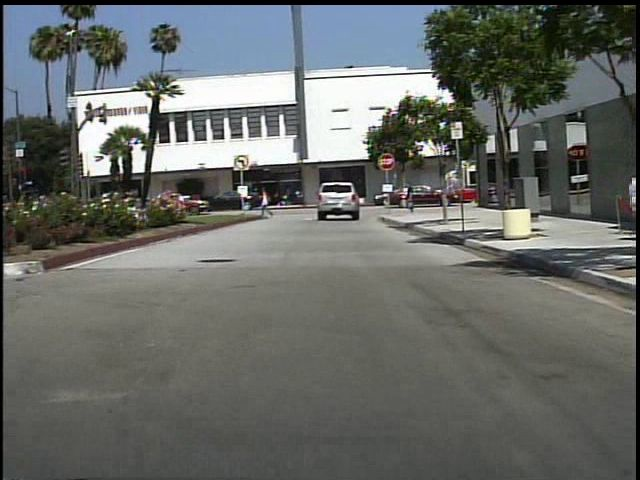person: (622, 167, 636, 239), (258, 182, 280, 220), (401, 179, 422, 215), (291, 182, 292, 208)
